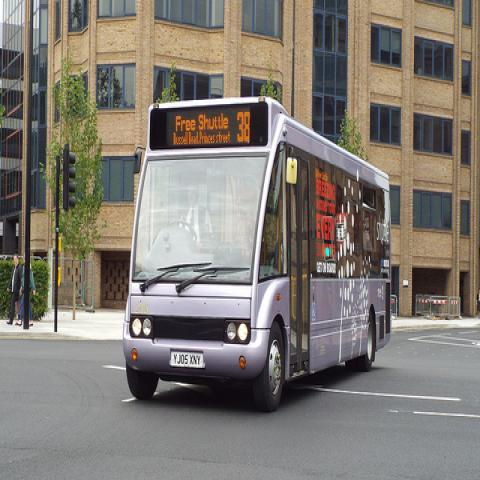bus: (121, 96, 392, 412)
